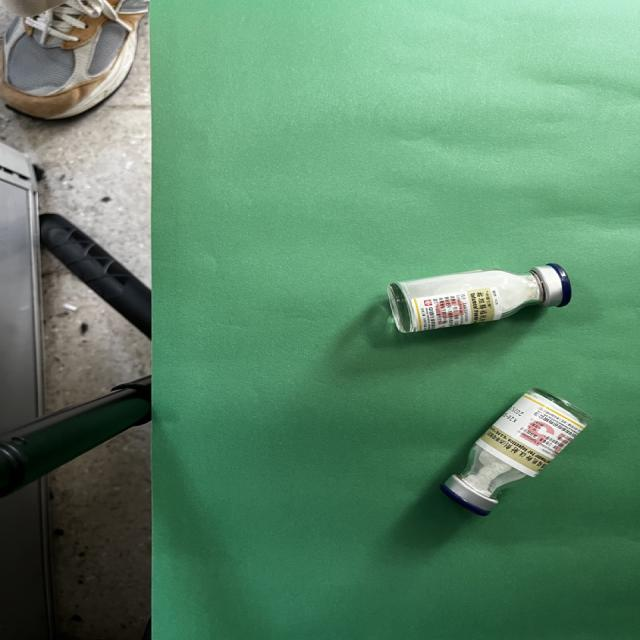Vials: (441, 388, 589, 516), (387, 264, 571, 333)
